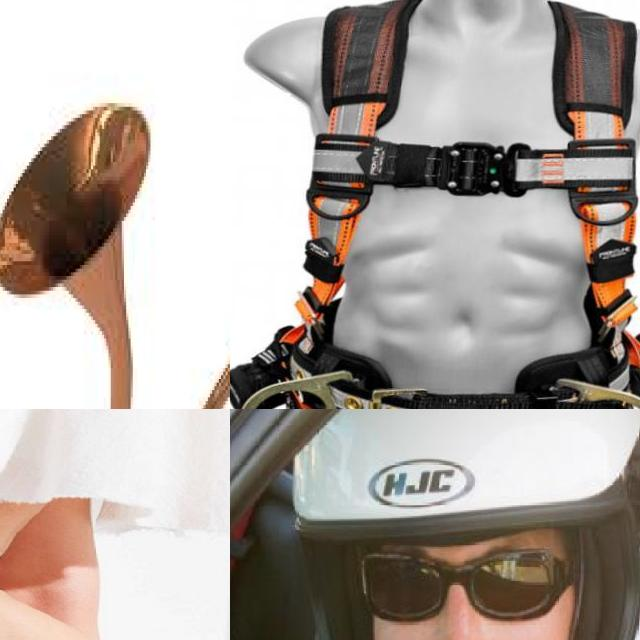Harness: (230, 0, 640, 409)
face_nomask: (357, 548, 564, 640)
glasses: (352, 529, 593, 627)
head_helmet: (286, 409, 640, 570)
